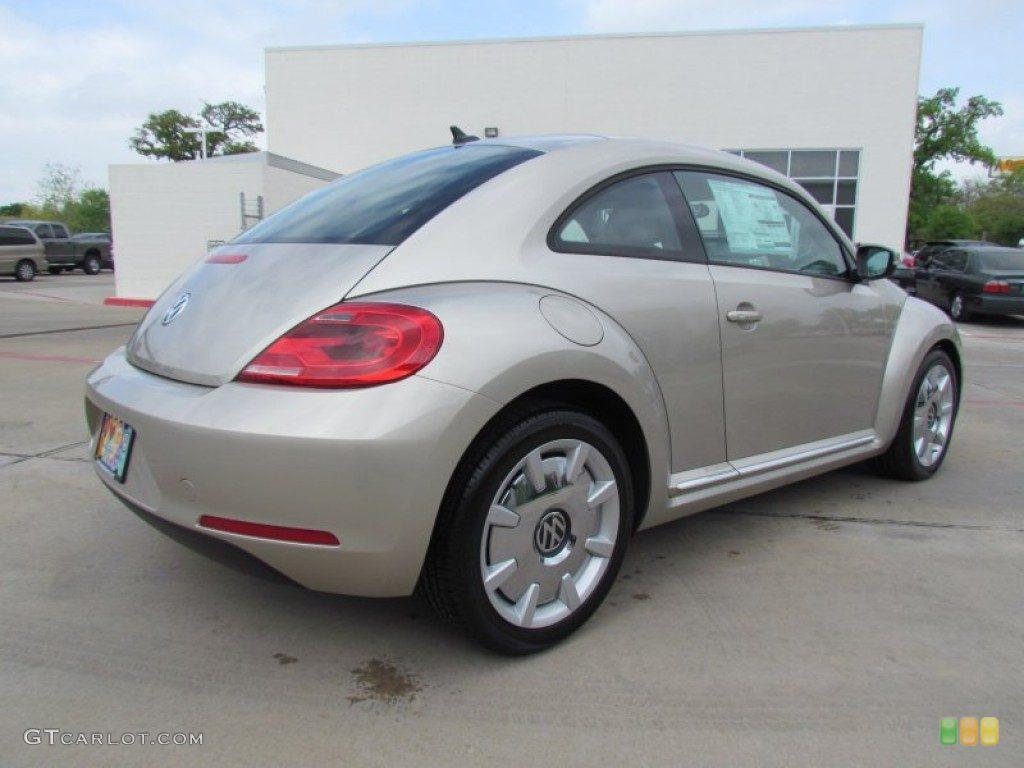Car: (64, 71, 991, 684), (881, 201, 1024, 354)
